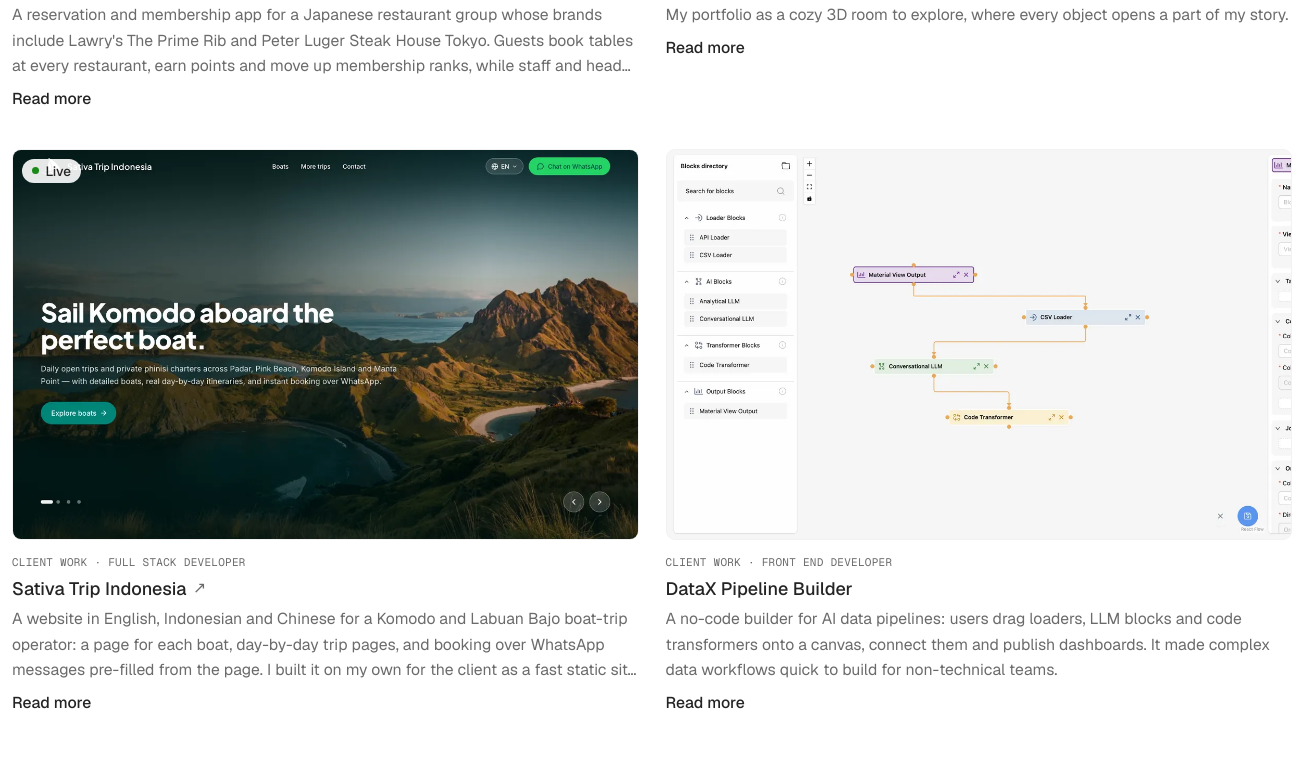
Test case: ProjectsSection cards › expands and collapses a clamped description in place without navigating
The width and height of the screenshot is (1304, 780).
(page scrolled)
Click the text "A website in English, Indonesian and Chinese for a Komodo and Labuan Bajo boat-trip operator: a page for each boat, day-" at (325, 645), box 12,606 -> 638,683
(page scrolled)
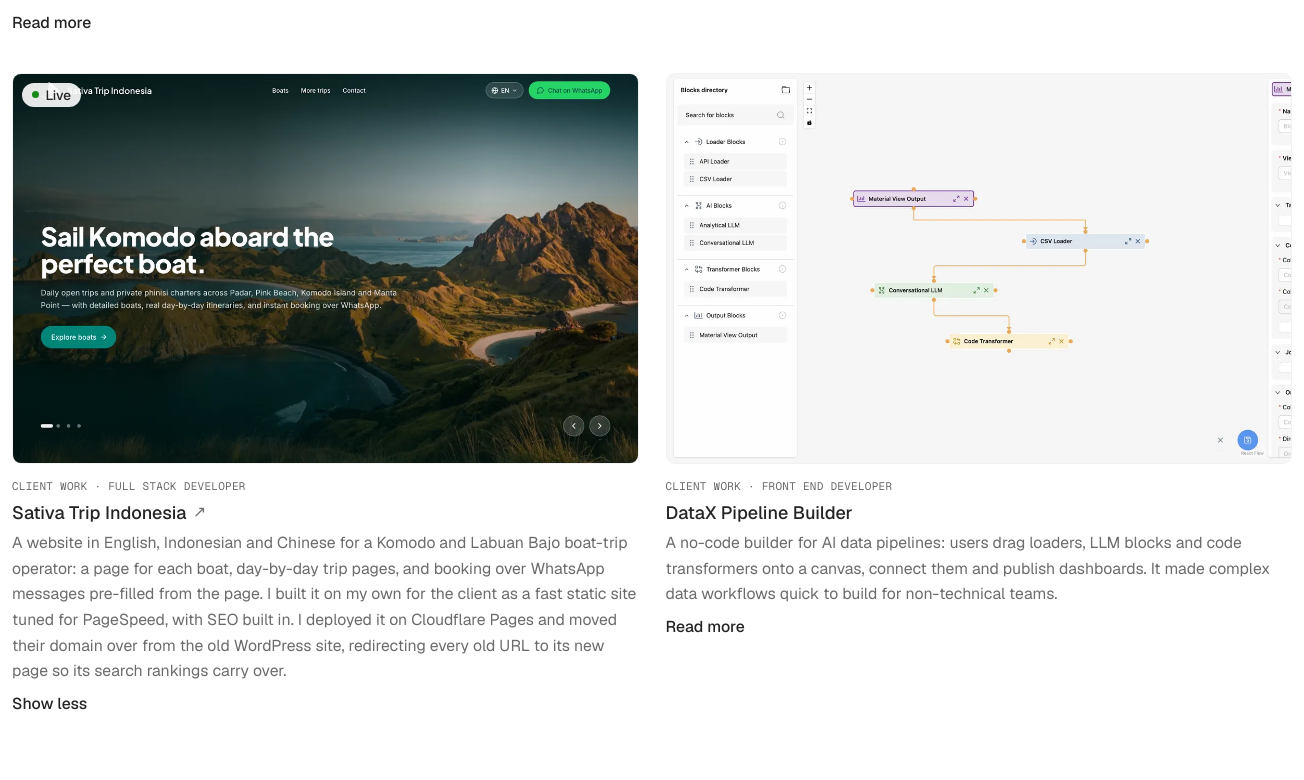
Expected: the button "Show less" is expanded
Click the button "Show less" at (50, 704), box 12,682 -> 87,726
(page scrolled)
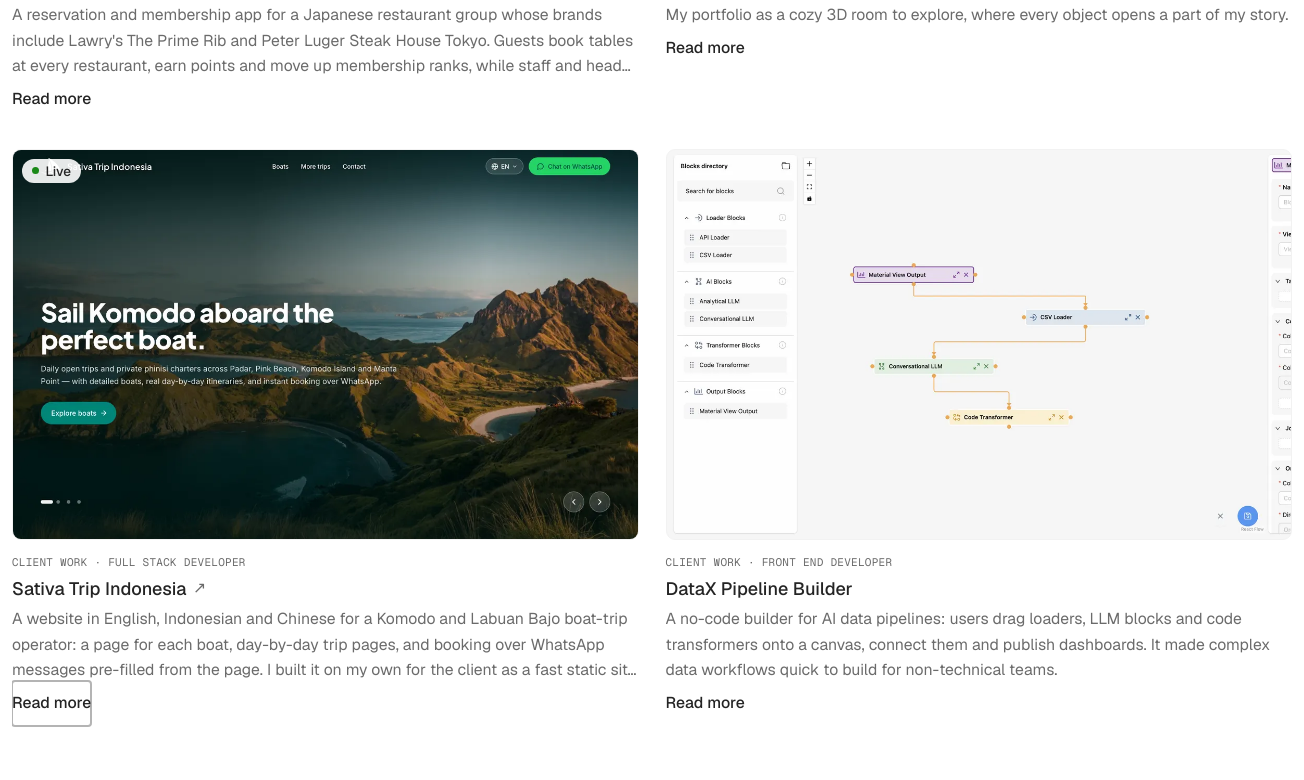
Expected: the button named "Show less" reads "Read more", 12,681 -> 91,726
Expected: the button "Show less" is gone
